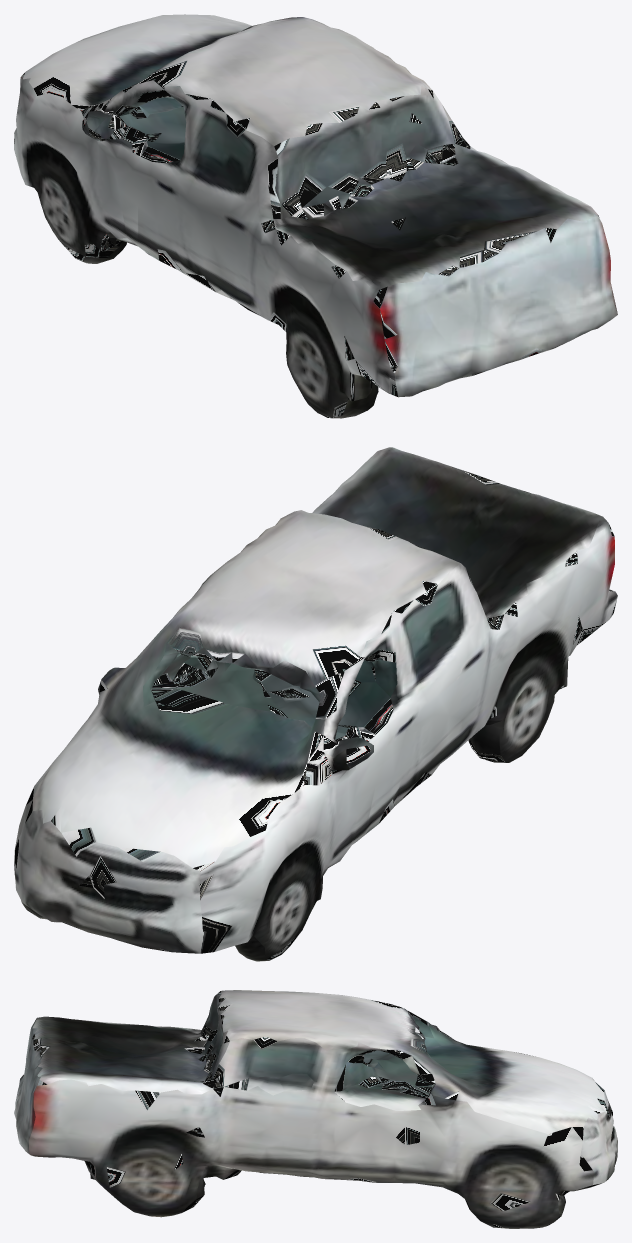
Rendered from picape.glb.
The picture shows the model from 3 angles, top to bottom: view 1: azimuth 30°, elevation 25°; view 2: azimuth 150°, elevation 25°; view 3: azimuth 270°, elevation 25°; orthographic projection. The views are drawn at different scales.
Parts seen in each view (by area): view 1: corpo; view 2: corpo; view 3: corpo.
Part boxes in pixels (x1,y1,x2,y2): corpo: (14,14,617,418); corpo: (14,447,617,961); corpo: (14,990,617,1228).
Size of the model in its own units: 1.9 by 1.85 by 5.19.
1 material, 1 textured.
